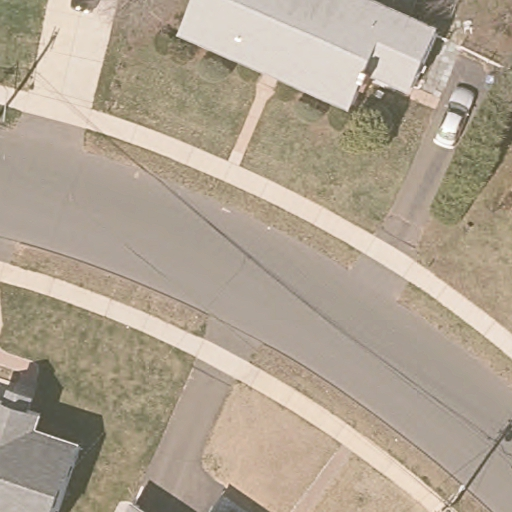DT: (1, 80, 28, 123)
